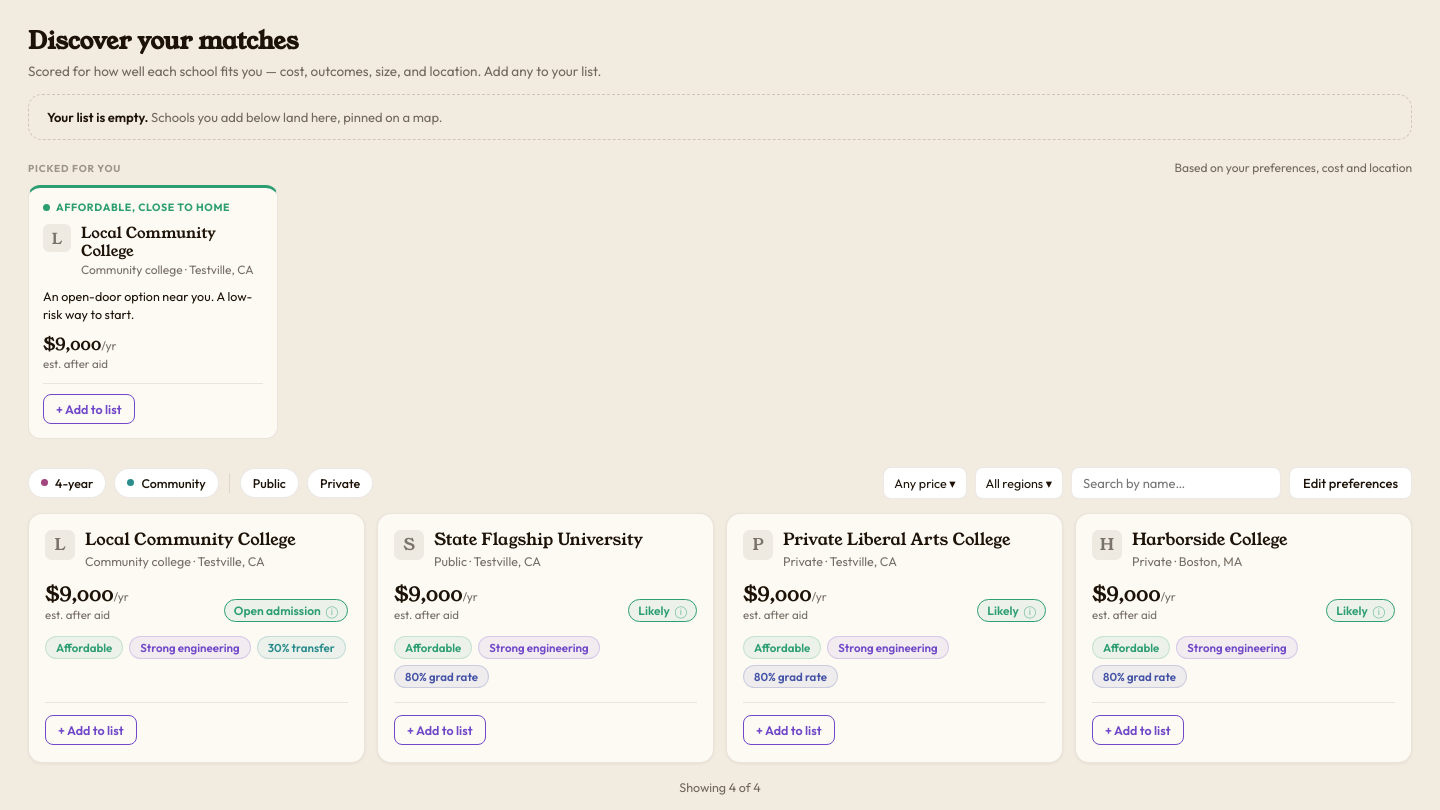
Test case: CollegeDiscoverTab › filters to 4-year, community, or both, with no "All paths" chip
The width and height of the screenshot is (1440, 810).
Click the button "4-year": x=67, y=483 [28,468,106,498]
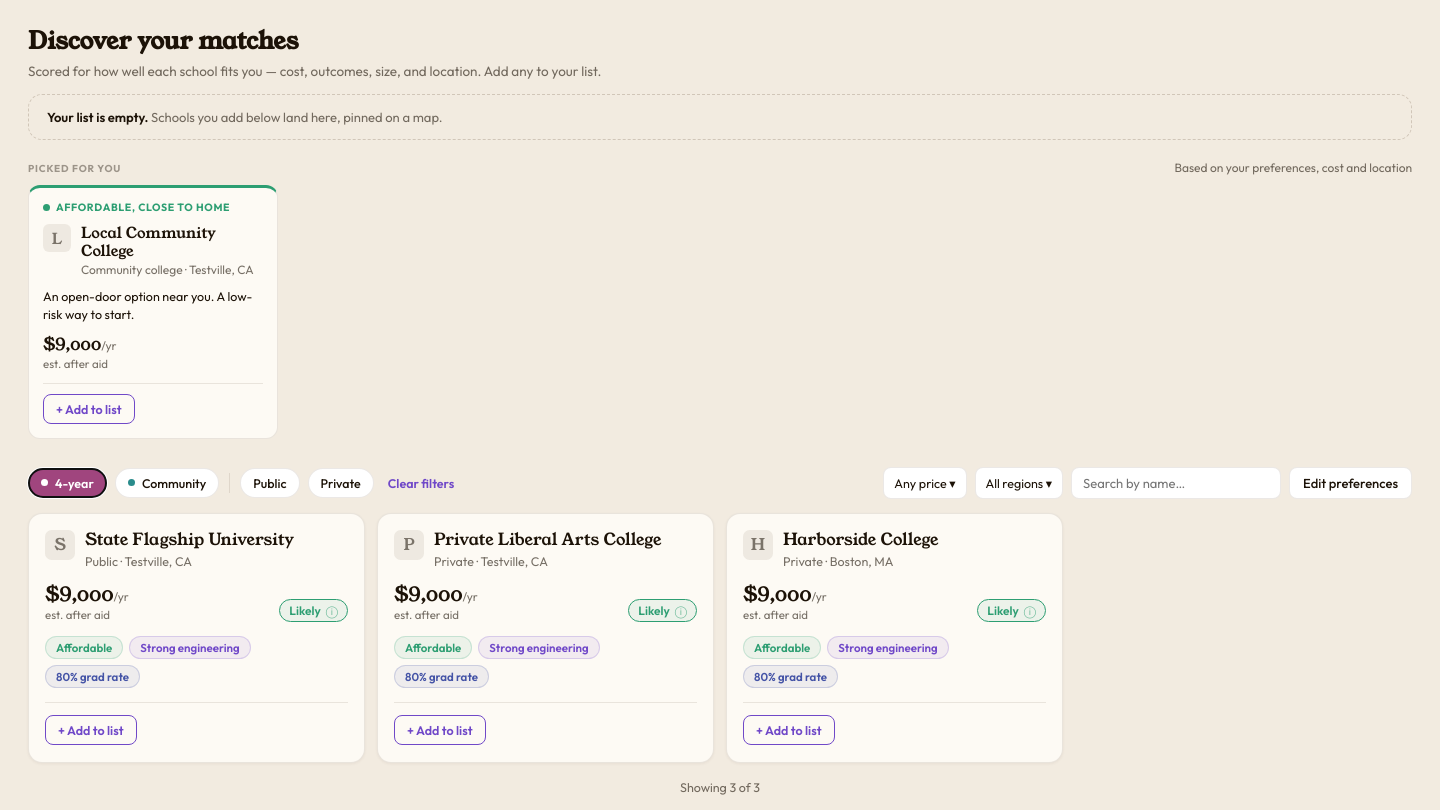
Check: the text "Showing 3 of 3" is shown, box [680,779,760,795]
Click the button "Community": x=167, y=483 [115,468,219,498]
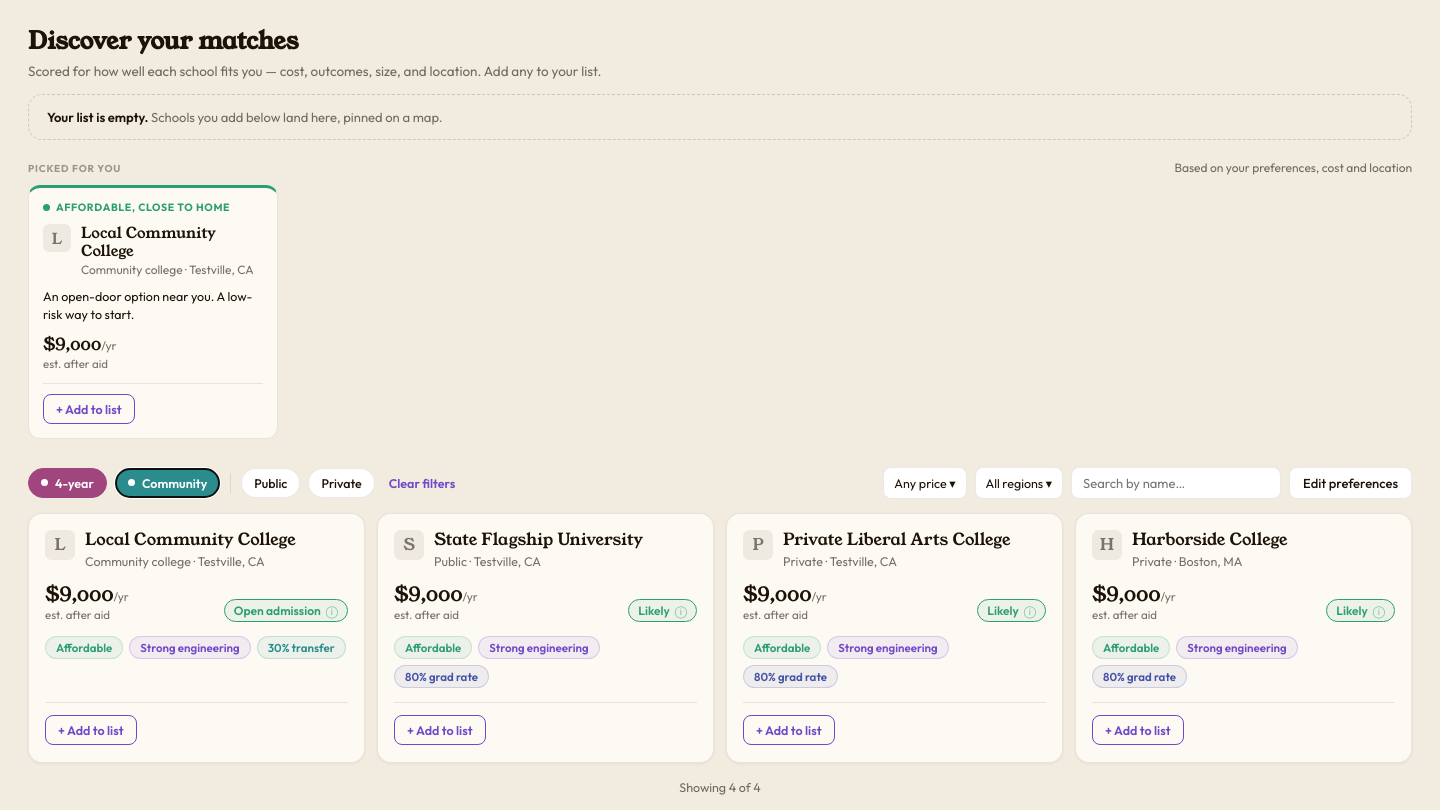
Check: the text "Showing 4 of 4" is shown, box [679,779,761,795]
Click the button "4-year": x=67, y=483 [28,468,107,498]
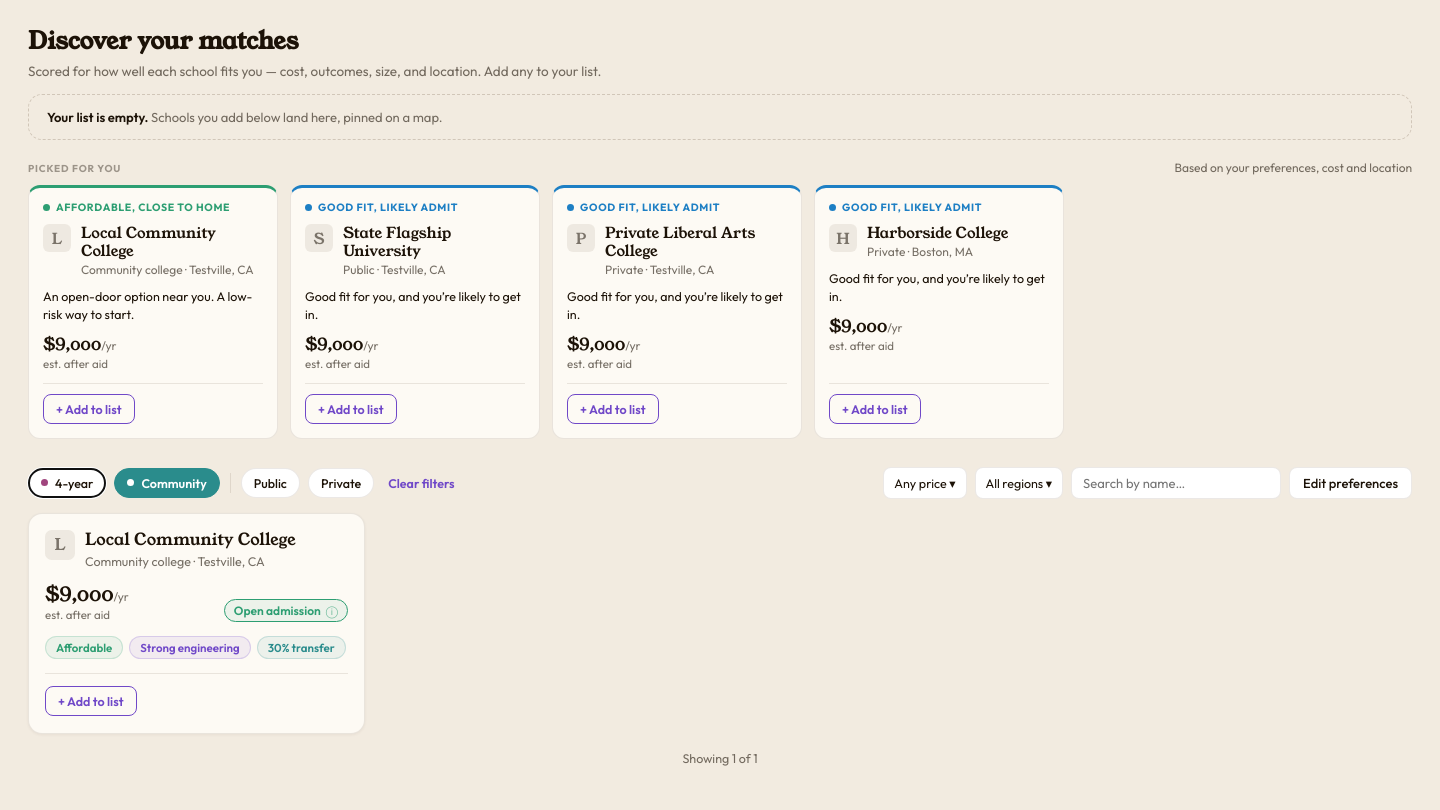
Check: the text "Showing 1 of 1" is shown, box [682,750,758,766]
